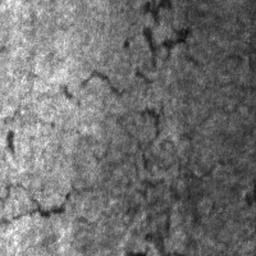Crazing: (0, 0, 256, 256), (21, 11, 42, 26), (0, 46, 8, 53)
